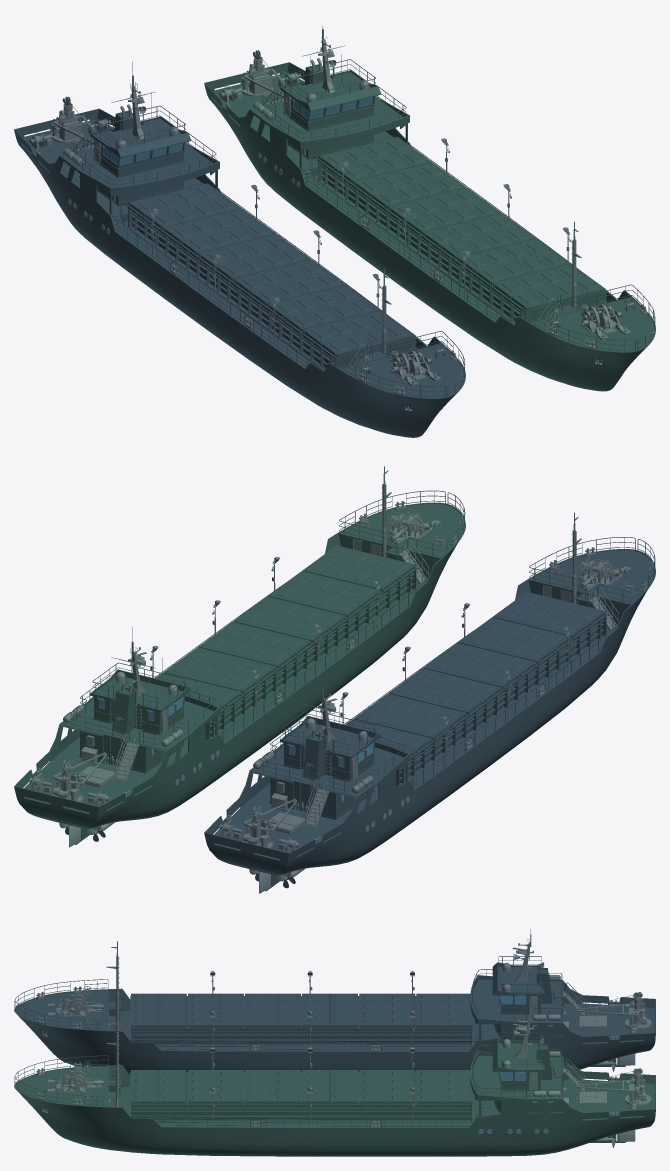
The picture shows the model from 3 angles, top to bottom: view 1: azimuth 30°, elevation 25°; view 2: azimuth 150°, elevation 25°; view 3: azimuth 270°, elevation 25°; orthographic projection. The views are drawn at different scales.
Parts seen in each view (by area): view 1: vessel60 rusted, vessel60; view 2: vessel60, vessel60 rusted; view 3: vessel60 rusted, vessel60.
Boxes of the visible parts, left/top/right/bottom form: vessel60 rusted: left=204, top=26, right=655, bottom=391; vessel60: left=14, top=61, right=465, bottom=437; vessel60: left=204, top=512, right=655, bottom=893; vessel60 rusted: left=14, top=466, right=465, bottom=847; vessel60 rusted: left=14, top=1005, right=655, bottom=1156; vessel60: left=14, top=929, right=655, bottom=1075.
Size of the model in its own units: 28.81 by 16.12 by 64.93.
